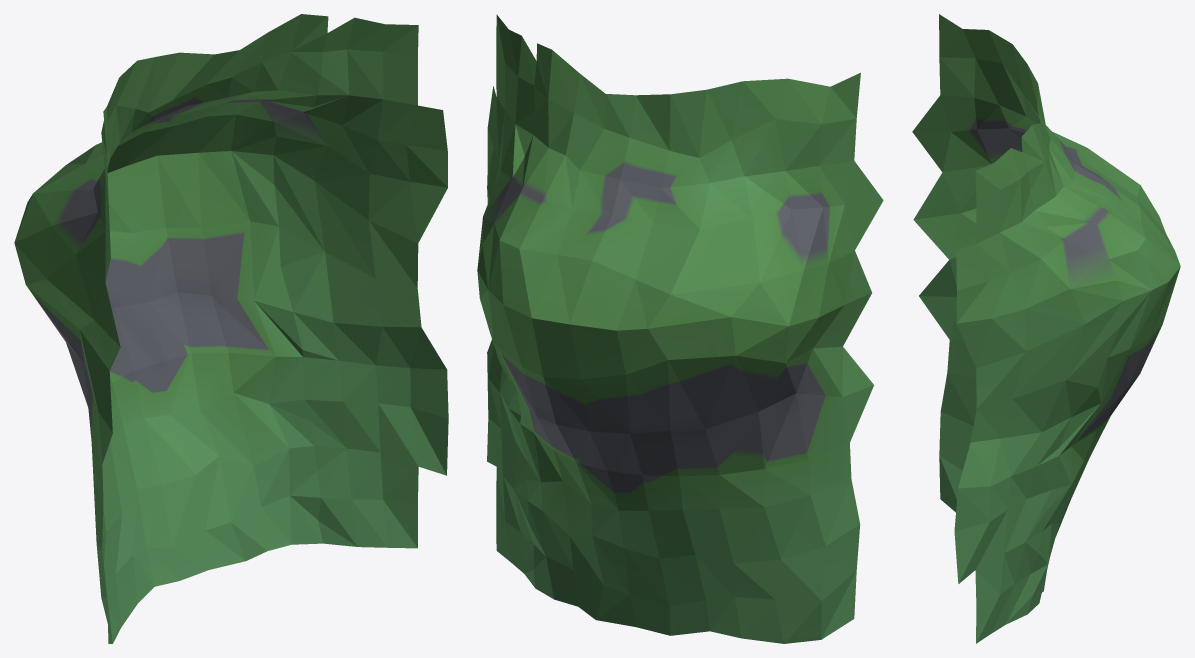
File: Ground_04.FBX
3 renders of one model, left to right at view 1: azimuth 30°, elevation 25°; view 2: azimuth 150°, elevation 25°; view 3: azimuth 270°, elevation 25°, orthographic. The views are drawn at different scales.
Parts seen in each view (by area): view 1: Ground_04; view 2: Ground_04; view 3: Ground_04.
Part boxes in pixels (<box>): Ground_04: <box>14,14,448,643</box>; Ground_04: <box>477,14,883,643</box>; Ground_04: <box>912,14,1180,643</box>.
Size of the model in its own units: 10.42 by 15.12 by 7.37.
